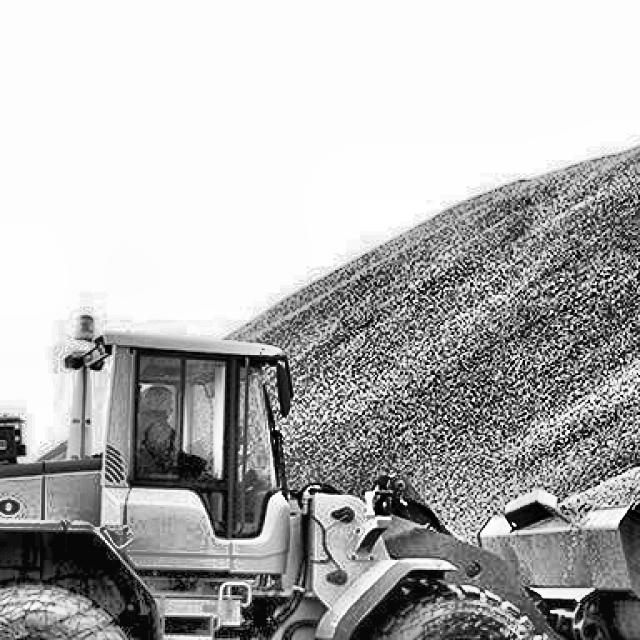buldozerpayloadergrader: (0, 310, 597, 640)
